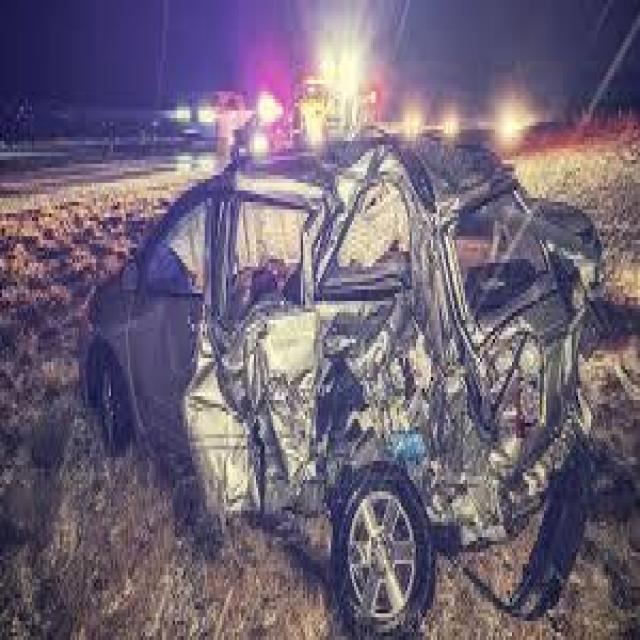severe: (116, 149, 594, 622)
